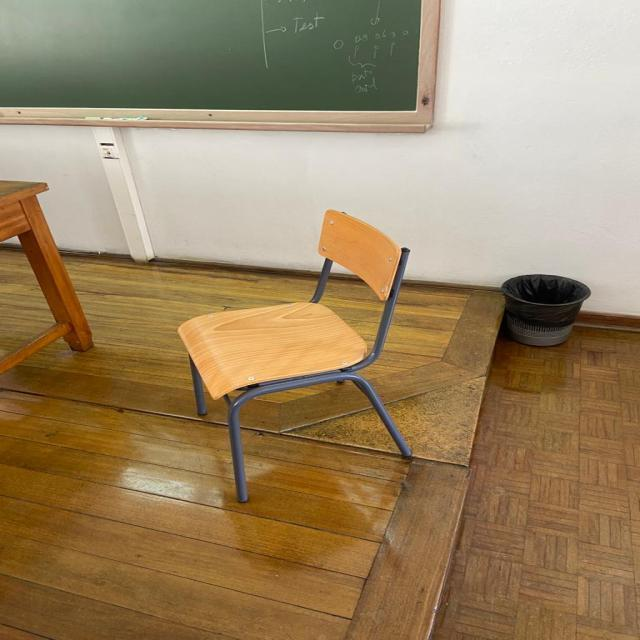chair: (167, 205, 433, 500)
